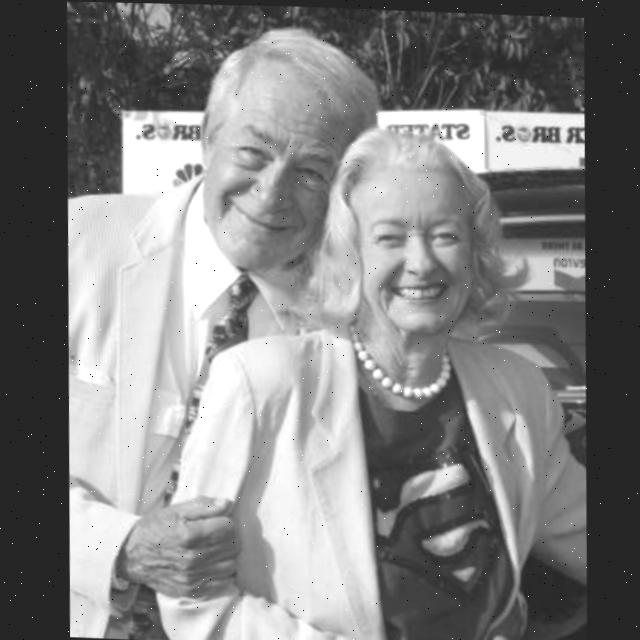face: (193, 66, 359, 268), (328, 142, 488, 340)
